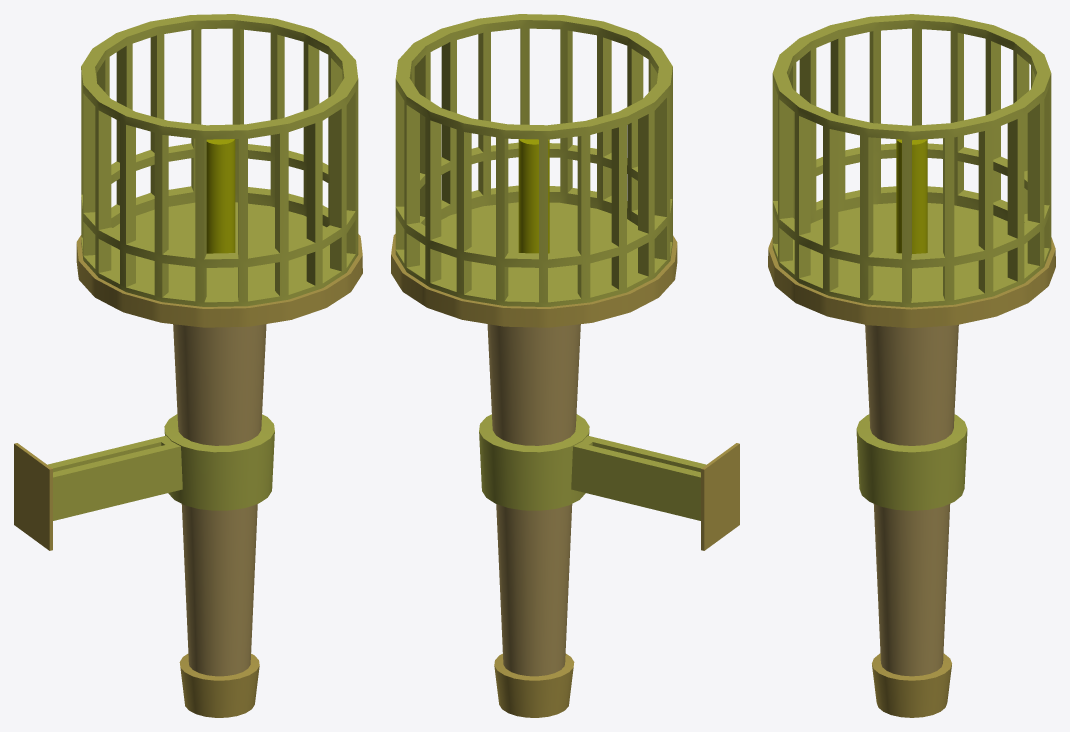
File: Sconce.fbx
3 views of the same model, side by side, from view 1: azimuth 30°, elevation 25°; view 2: azimuth 150°, elevation 25°; view 3: azimuth 270°, elevation 25° (orthographic).
Parts seen in each view (by area): view 1: Sconse (×2), Sconse_thing, Candle; view 2: Sconse (×2), Sconse_thing, Candle; view 3: Sconse (×2), Sconse_thing, Candle.
Part boxes in pixels (x1,y1,x2,y2): Sconse (×2): [14, 14, 362, 550]; Sconse_thing: [173, 324, 266, 717]; Candle: [206, 139, 235, 253]; Sconse (×2): [391, 14, 739, 550]; Sconse_thing: [487, 324, 580, 717]; Candle: [518, 139, 549, 253]; Sconse (×2): [768, 14, 1055, 510]; Sconse_thing: [865, 324, 958, 717]; Candle: [896, 139, 927, 253].
Size of the model in its own units: 1.56 by 3.02 by 1.24.
